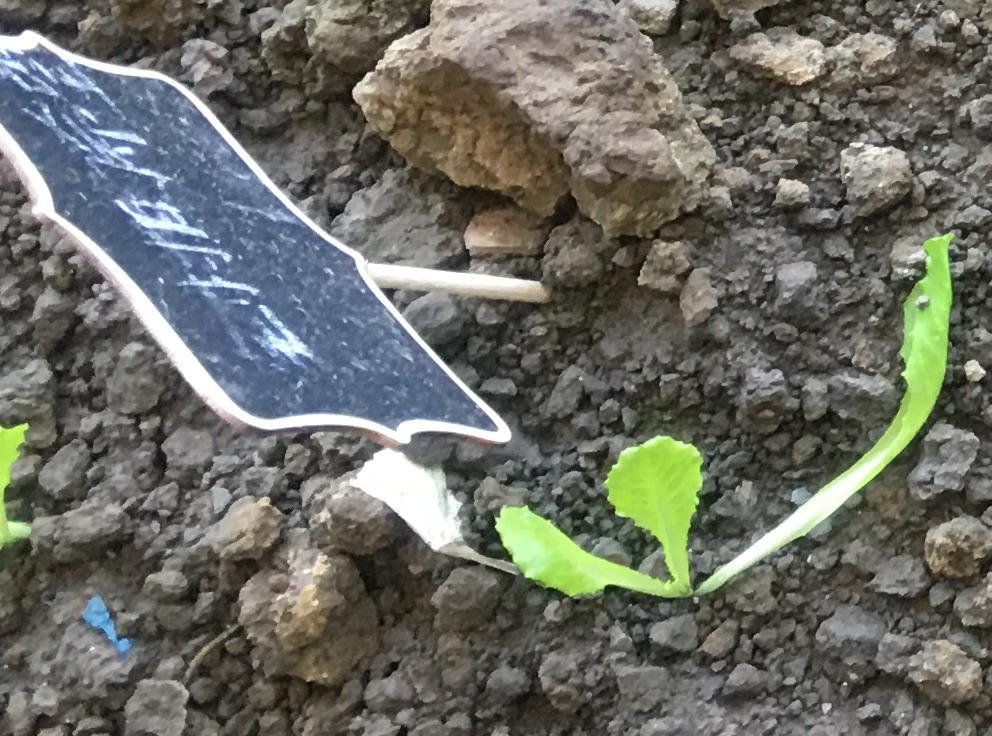block: (355, 1, 708, 237), (237, 553, 371, 685)
